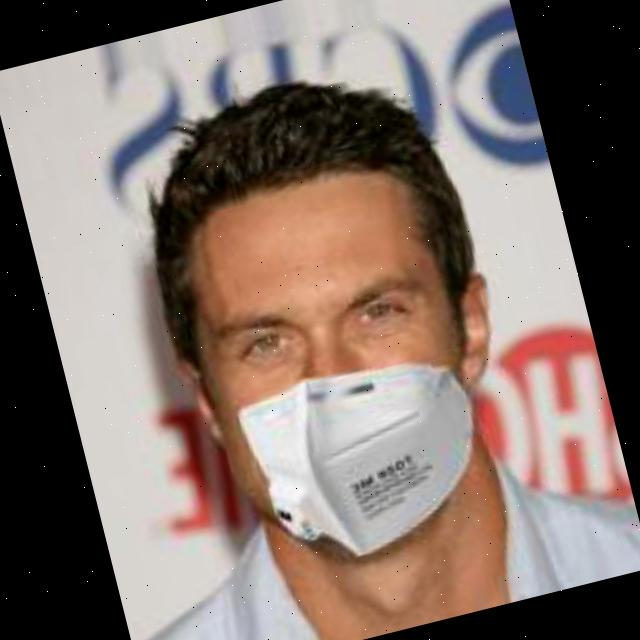suspicion: (121, 70, 548, 596)
